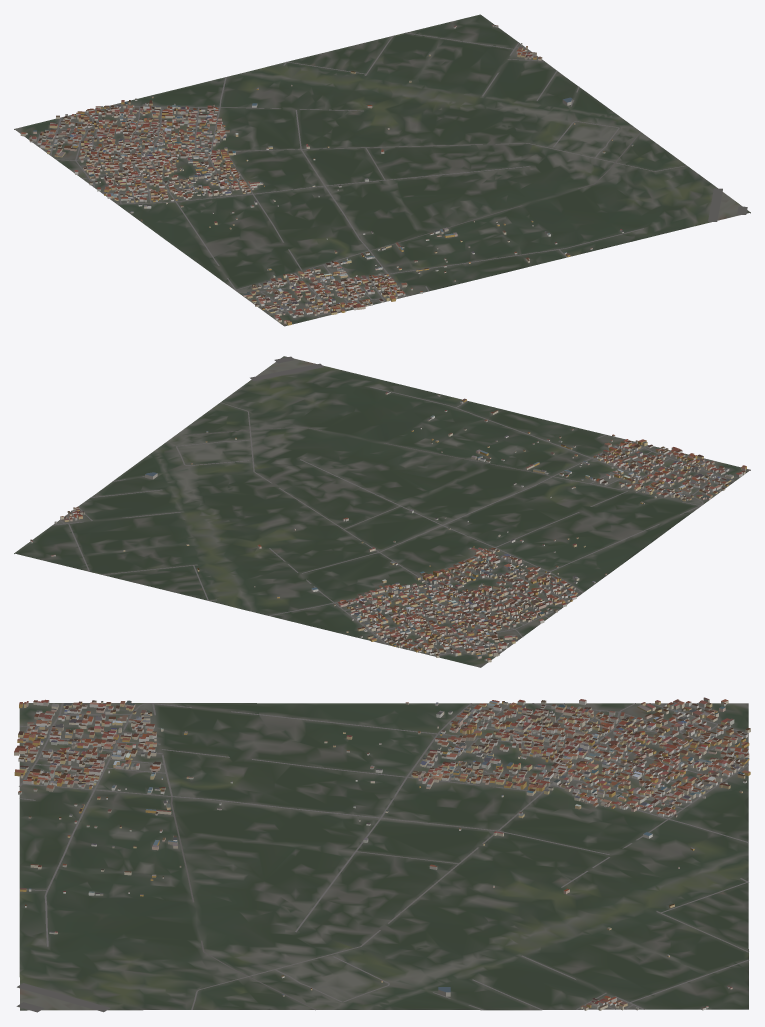
3 views of the same model, one above another, from view 1: azimuth 30°, elevation 25°; view 2: azimuth 150°, elevation 25°; view 3: azimuth 270°, elevation 25° (orthographic). The views are drawn at different scales.
Visible parts, largest first — view 1: ground, buildings, roads; view 2: ground, buildings, roads; view 3: ground, buildings, roads.
Boxes of the visible parts, left/top/right/bottom form: ground: left=14, top=14, right=750, bottom=326; buildings: left=20, top=25, right=633, bottom=325; roads: left=32, top=32, right=747, bottom=317; ground: left=14, top=356, right=750, bottom=667; buildings: left=30, top=391, right=746, bottom=662; roads: left=53, top=356, right=734, bottom=656; ground: left=19, top=703, right=748, bottom=1010; buildings: left=14, top=697, right=750, bottom=1010; roads: left=16, top=703, right=748, bottom=1012.
Bounding box in the file's own units: 1414 × 14.07 × 1417.
